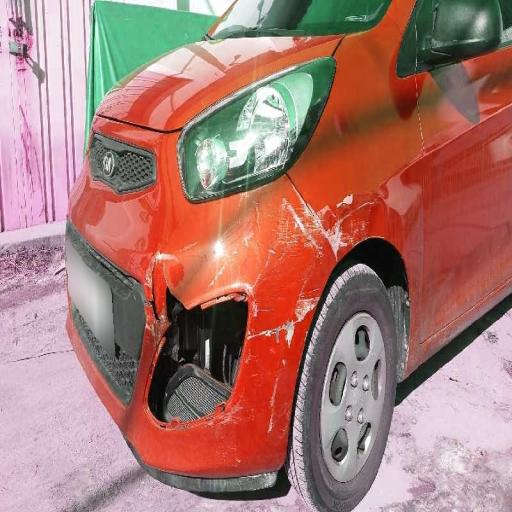scratch: (182, 152, 396, 458)
